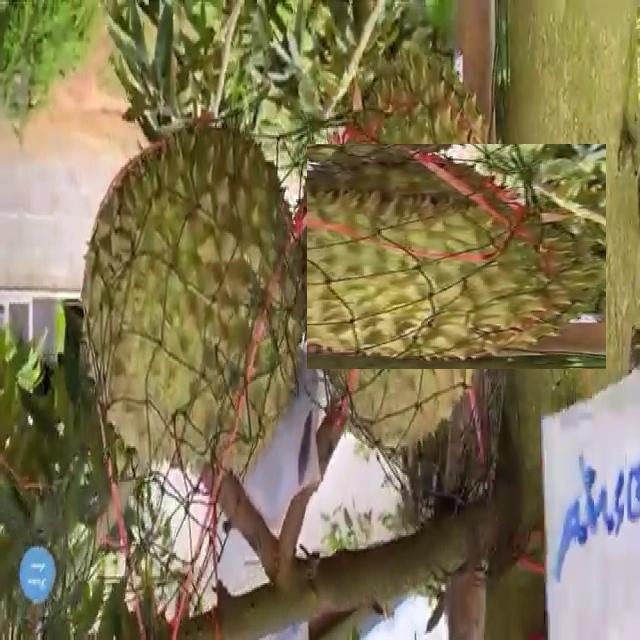durian: (235, 95, 558, 418), (78, 136, 307, 477)
